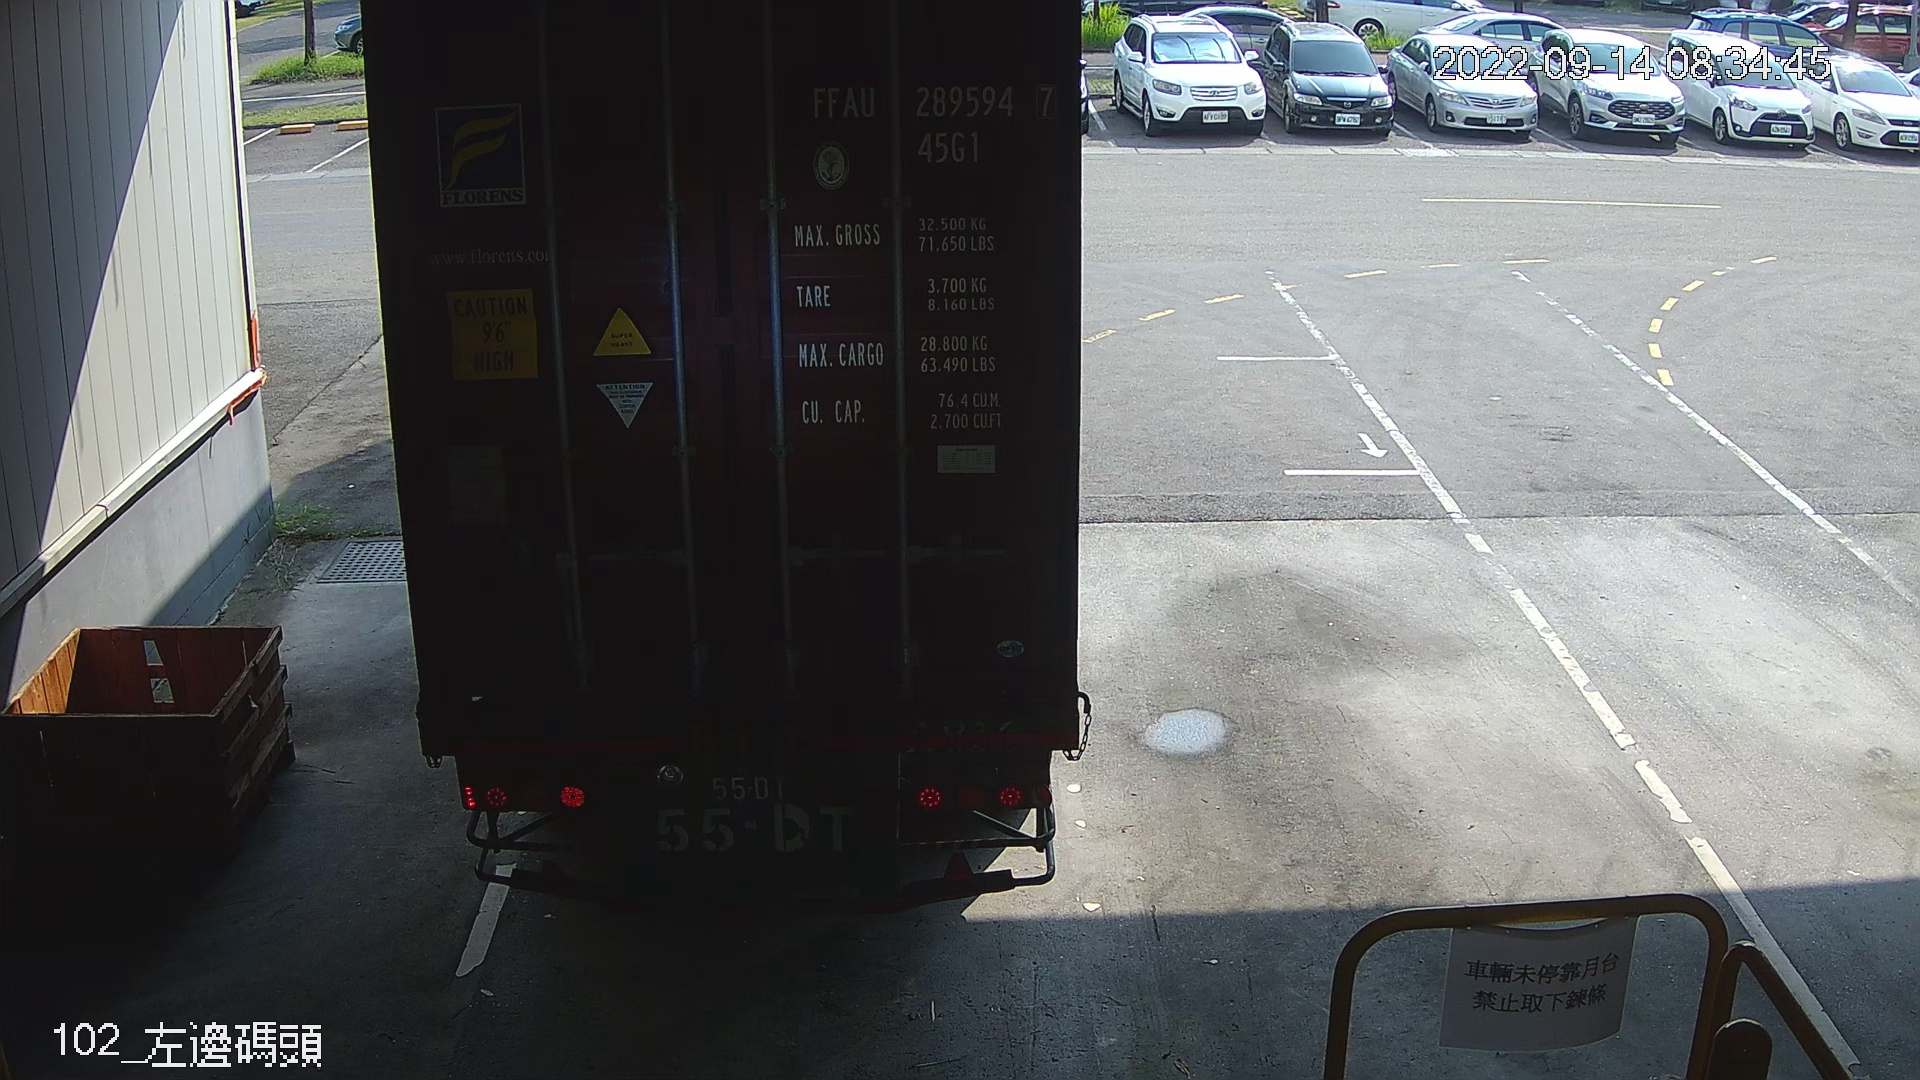container: (837, 33, 1076, 123)
